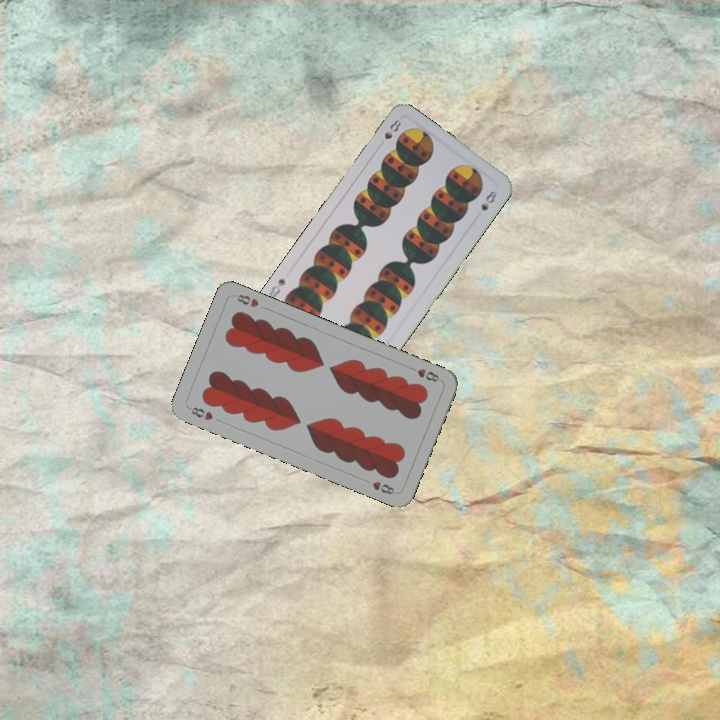H8: (185, 403, 216, 423), (413, 364, 441, 385)
S8: (380, 115, 404, 142)
